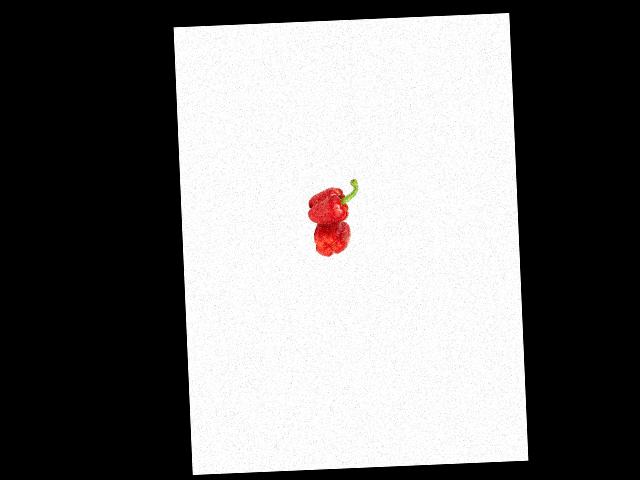bell_pepper: (311, 221, 353, 257)
